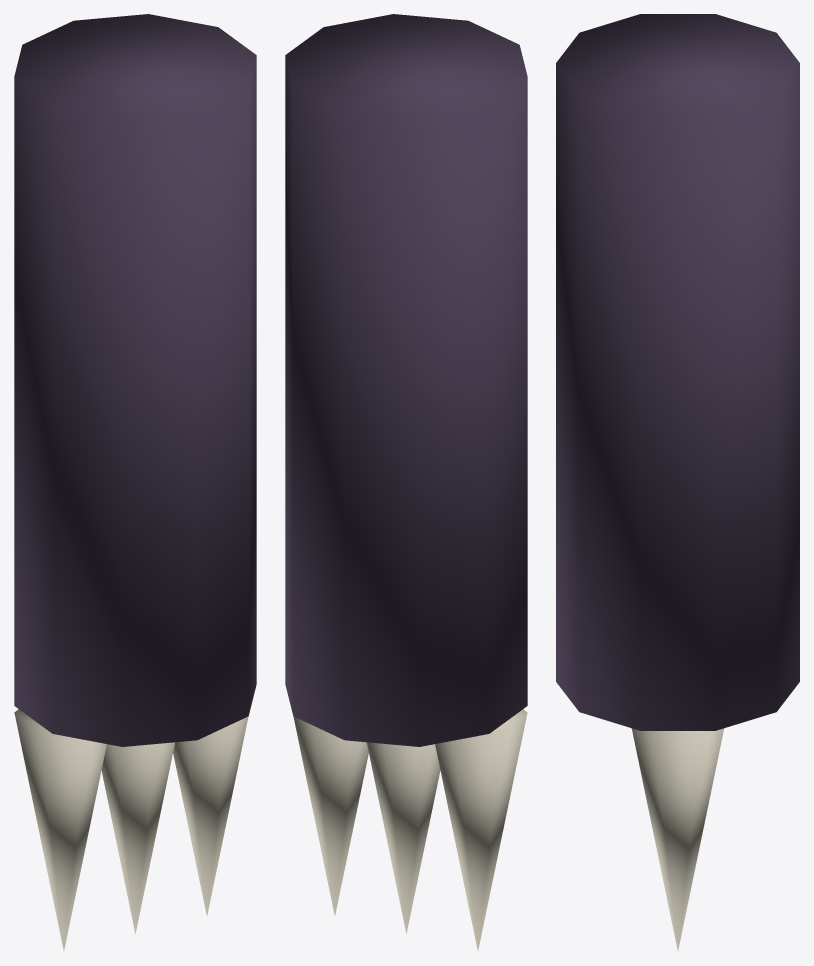
File: limbs_arm_claw.glb
3 renders of one model, left to right at view 1: azimuth 30°, elevation 25°; view 2: azimuth 150°, elevation 25°; view 3: azimuth 270°, elevation 25°, orthographic.
Visible parts, largest first — view 1: arm_claw_L, Cone, Cone.001, Cone.002; view 2: arm_claw_L, Cone, Cone.001, Cone.002; view 3: arm_claw_L, Cone.002.
Part boxes in pixels (x1=…): arm_claw_L: x1=14, y1=14, x2=256, y2=746; Cone: x1=14, y1=709, x2=106, y2=950; Cone.001: x1=101, y1=742, x2=174, y2=934; Cone.002: x1=173, y1=716, x2=248, y2=915; arm_claw_L: x1=285, y1=14, x2=527, y2=746; Cone: x1=435, y1=709, x2=527, y2=950; Cone.001: x1=367, y1=742, x2=440, y2=934; Cone.002: x1=293, y1=716, x2=368, y2=915; arm_claw_L: x1=556, y1=14, x2=799, y2=730; Cone.002: x1=631, y1=728, x2=724, y2=950.
Bounding box in the file's own units: 0.152 × 0.58 × 0.15.
